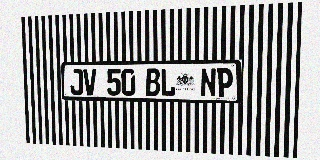0: (121, 69, 135, 96)
5: (107, 69, 121, 96)
B: (145, 68, 160, 96)
J: (70, 69, 83, 95)
L: (160, 68, 175, 96)
N: (200, 68, 216, 97)
P: (217, 68, 233, 97)
V: (83, 69, 97, 95)
